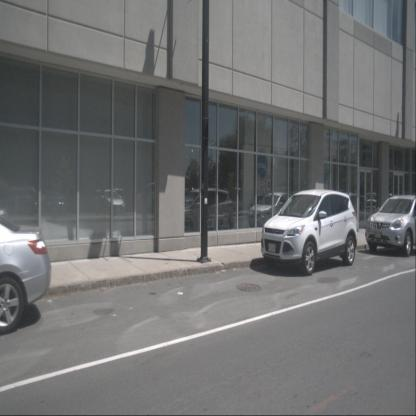vehicle-car: (261, 188, 358, 277), (0, 206, 52, 336), (171, 187, 235, 238), (365, 193, 415, 258), (248, 192, 302, 230), (95, 188, 125, 215), (42, 188, 68, 215)
